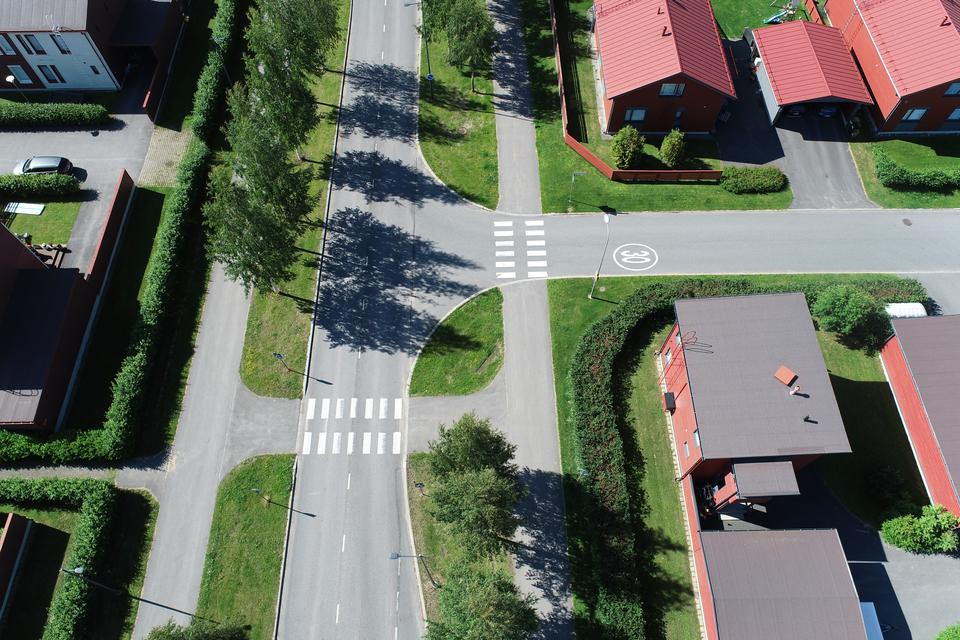intersection: (149, 361, 596, 486), (299, 153, 564, 329)
